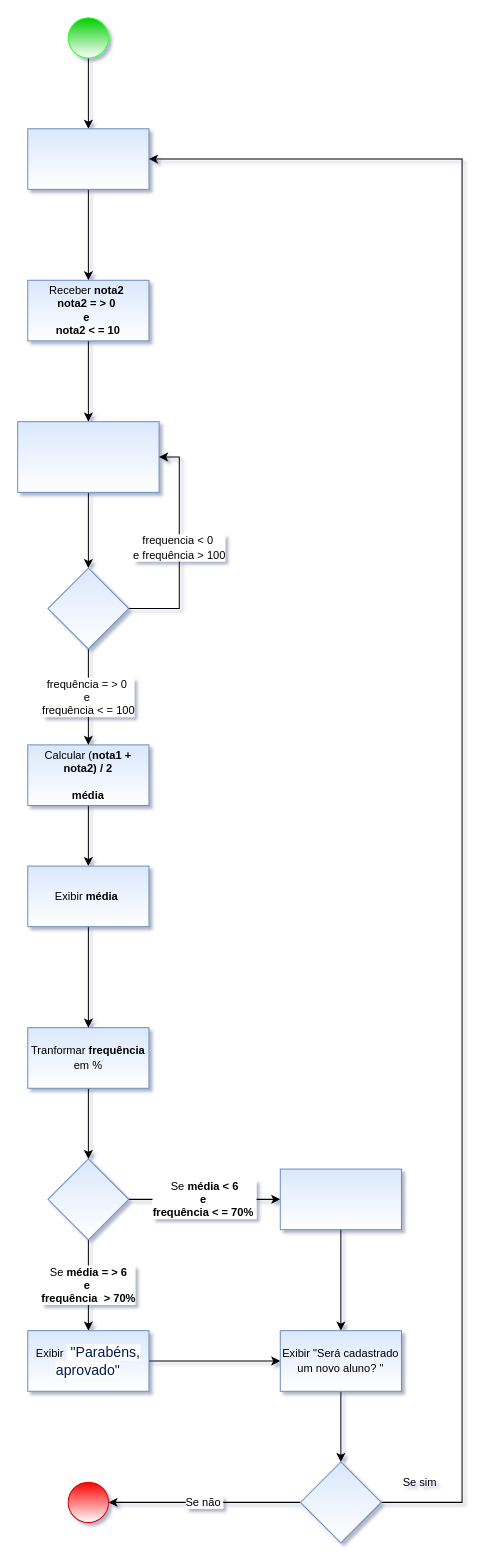
This 494x1567 diagram has some shape labels left out. The box of each missing label's shape, as (x1, y1, x2, y2) in pixels:
Exibir "Infelizmente, reprovado": (279, 1168, 401, 1230)
Receber frequência: (17, 421, 159, 492)
Receber nota1 nota1 = > 0 e nota1 < = 10: (27, 128, 149, 189)
